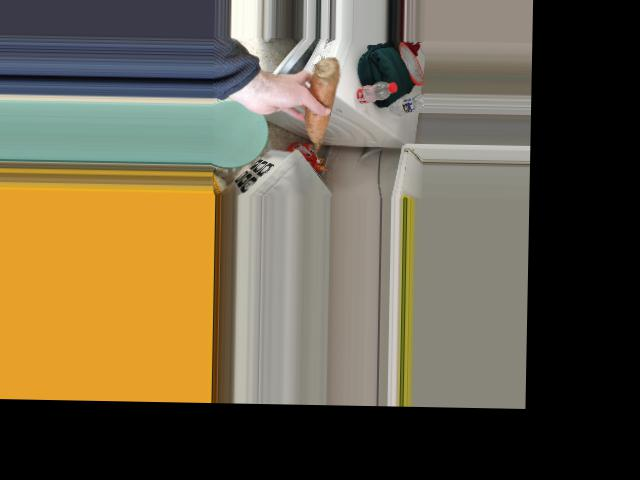sweet_potato: (307, 56, 332, 147)
